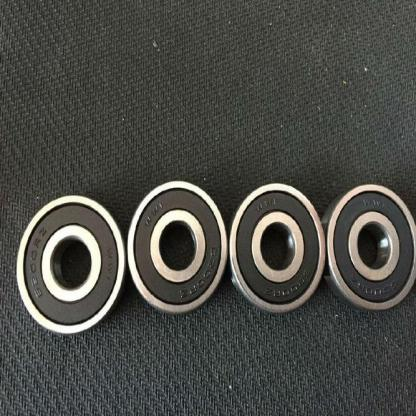FOD: (14, 190, 126, 338), (126, 178, 230, 320), (231, 179, 327, 321), (320, 181, 416, 317)
